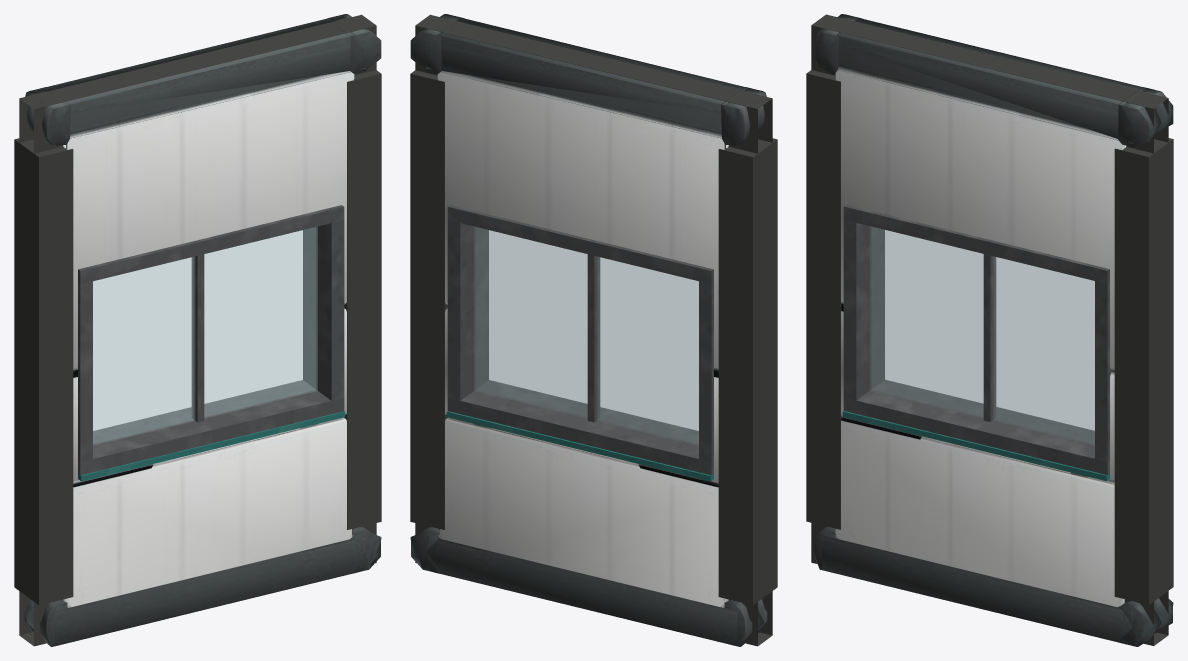
File: wall-window.glb
3 renders of one model, left to right at view 1: azimuth 30°, elevation 25°; view 2: azimuth 150°, elevation 25°; view 3: azimuth 330°, elevation 25°, orthographic.
Parts seen in each view (by area): view 1: object 1, WindowGlass_glass, WindowGlass_gunmetal, WindowGlass_teal; view 2: object 1, WindowGlass_glass, WindowGlass_gunmetal, WindowGlass_teal; view 3: object 1, WindowGlass_glass, WindowGlass_gunmetal, WindowGlass_teal.
Boxes of the visible parts, x1,y1,x2,y2 form: object 1: (14, 14, 381, 646); WindowGlass_glass: (93, 227, 317, 445); WindowGlass_gunmetal: (78, 205, 344, 475); WindowGlass_teal: (78, 411, 345, 481); object 1: (410, 14, 777, 646); WindowGlass_glass: (474, 227, 698, 445); WindowGlass_gunmetal: (447, 205, 713, 475); WindowGlass_teal: (446, 411, 713, 481); object 1: (806, 14, 1173, 646); WindowGlass_glass: (870, 226, 1094, 445); WindowGlass_gunmetal: (843, 205, 1111, 474); WindowGlass_teal: (842, 411, 1109, 481).
Bounding box in the file's own units: 2 × 3 × 0.31.
4 materials, 3 textured.
